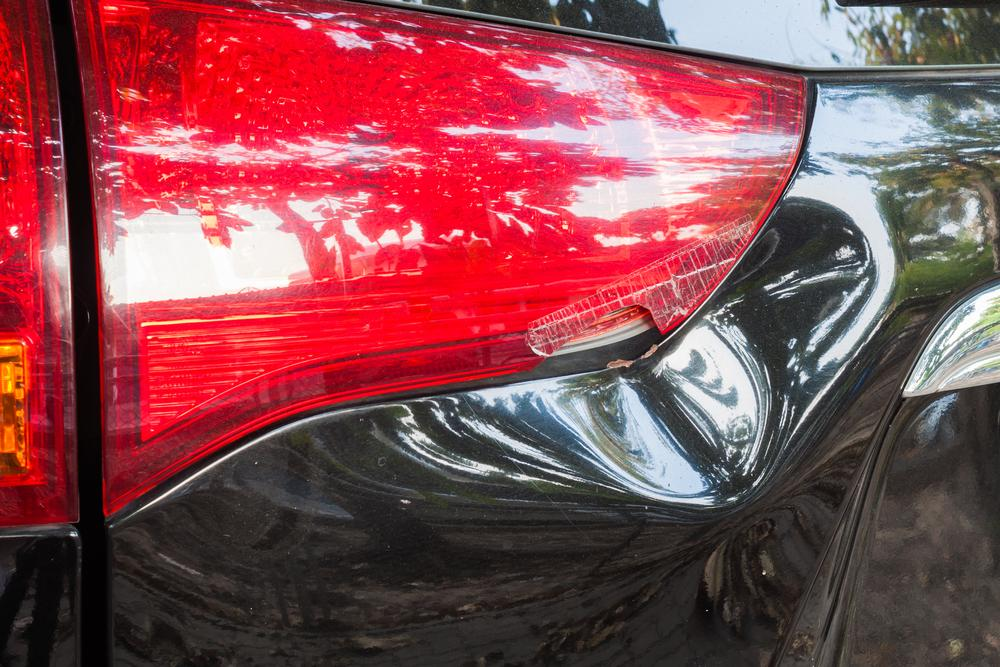dent: (539, 191, 892, 524)
lamp broken: (69, 0, 812, 522)
